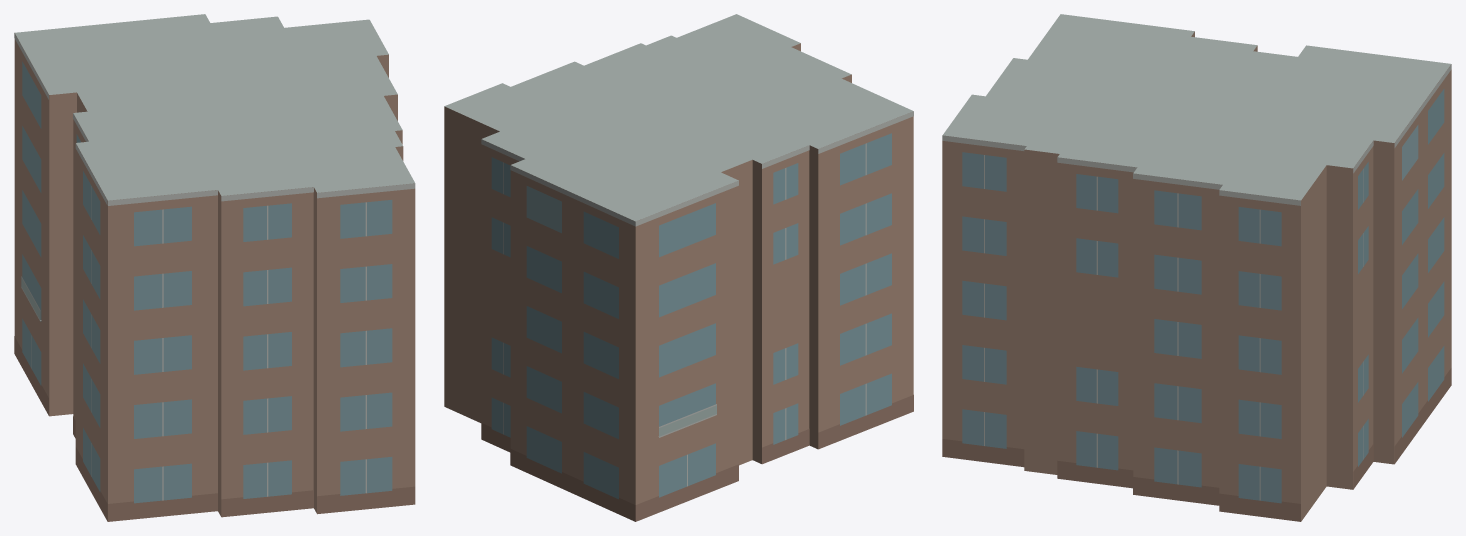
The model's file is survey-upis-33014911.glb.
The picture shows the model from 3 angles, left to right: view 1: azimuth 30°, elevation 25°; view 2: azimuth 150°, elevation 25°; view 3: azimuth 270°, elevation 25°; orthographic projection. The views are drawn at different scales.
Visible parts, largest first — view 1: survey-upis-33014911.tmp; view 2: survey-upis-33014911.tmp; view 3: survey-upis-33014911.tmp.
Part boxes in pixels (x1=…): survey-upis-33014911.tmp: x1=14, y1=14, x2=415, y2=521; survey-upis-33014911.tmp: x1=444, y1=14, x2=913, y2=521; survey-upis-33014911.tmp: x1=942, y1=14, x2=1451, y2=521.
Bounding box in the file's own units: 17.93 × 14.4 × 20.68.
